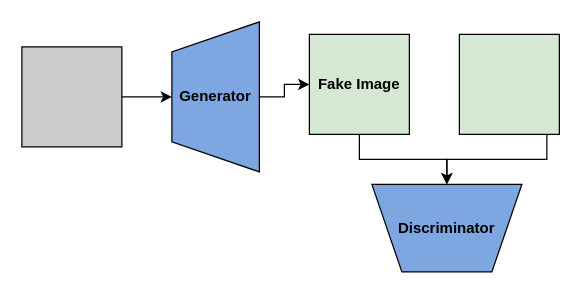
This 581x294 diagram has some shape labels left out. Each missing label, with the centre of its shape:
Noise: point 71,96
Real Image: point 508,83
